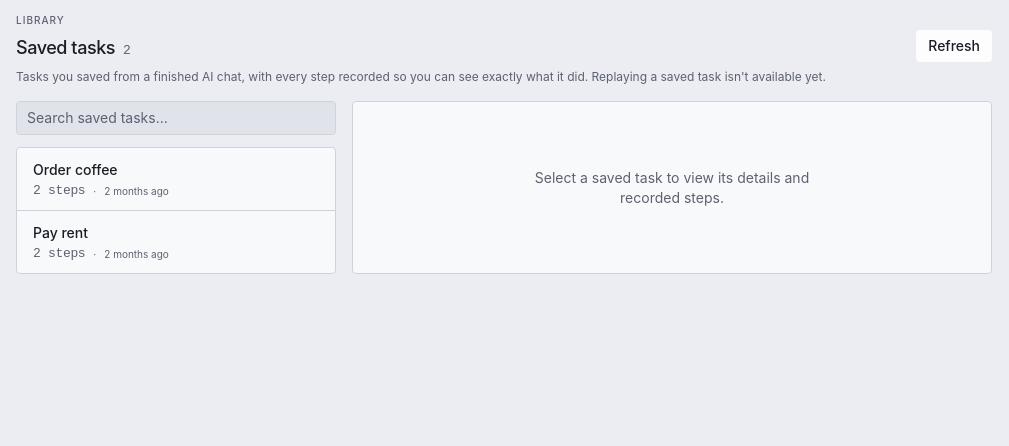
Scenario: RecipesView detail half › renders every fact, and says "removed" when the source session is gone
Click the button "Order coffee 2 steps · 2 months ago".
click(75, 170)  # box [17,148,335,210]
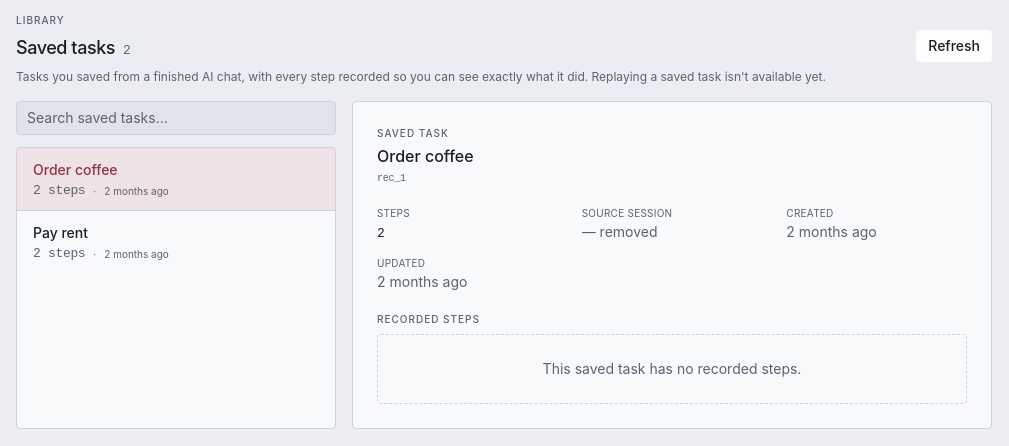
Check: the text "— removed" is shown, box [582,223,658,240]
Check: the text "This saved task has no recorded steps." is shown, box [377,334,967,404]
